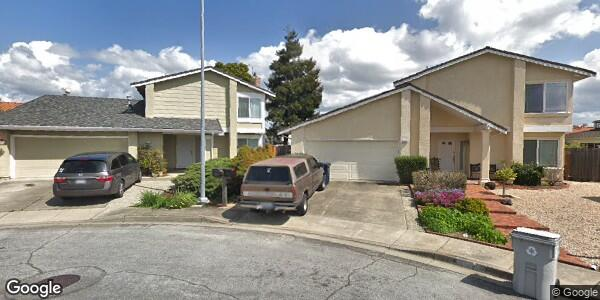Steel_Pole: (191, 1, 211, 208)
